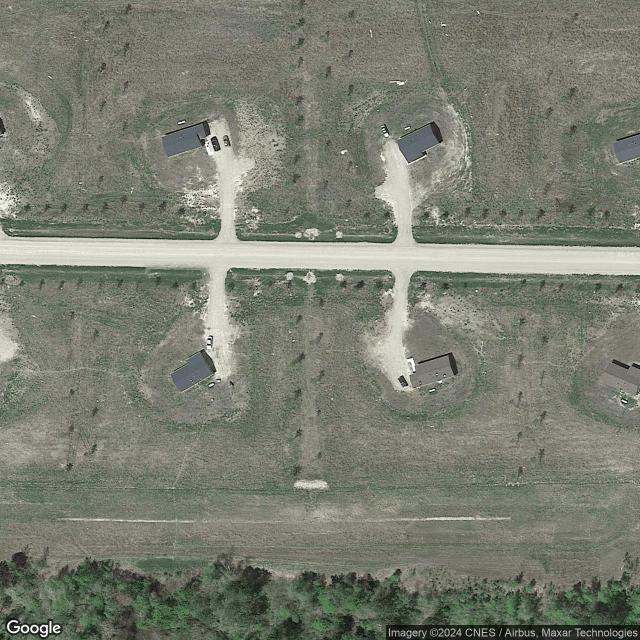Propane: (177, 118, 187, 127), (620, 397, 629, 405), (427, 387, 437, 394), (207, 382, 215, 389), (403, 125, 412, 131)
